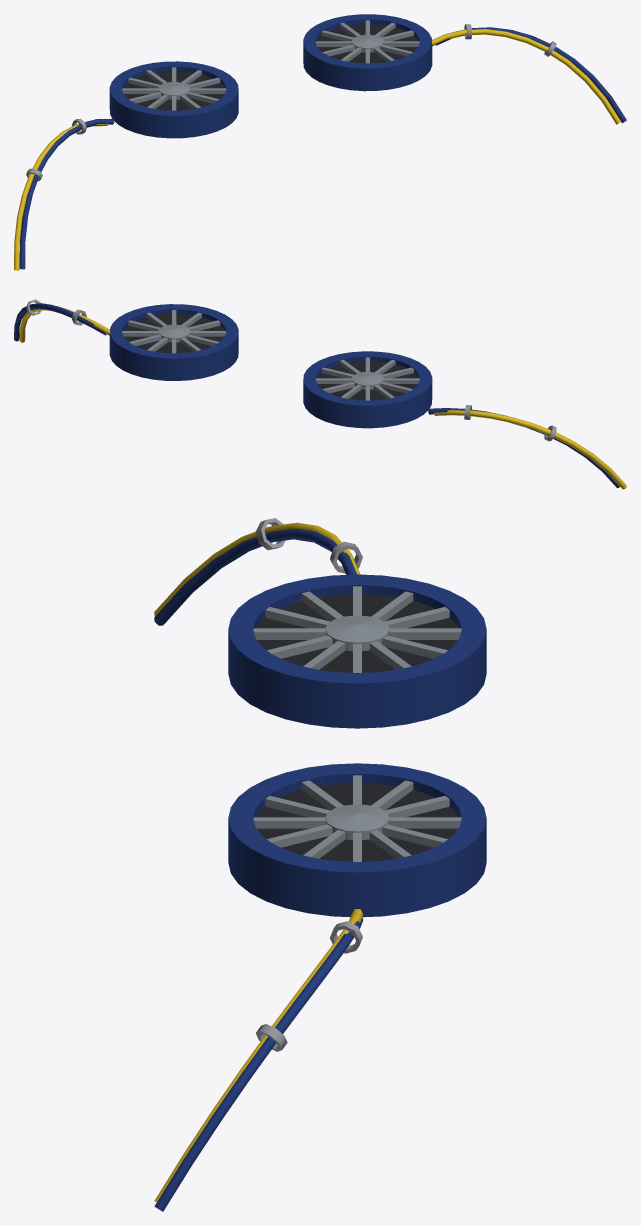
Rendered from l20_fan.obj.
3 views of the same model, one above another, from view 1: azimuth 30°, elevation 25°; view 2: azimuth 150°, elevation 25°; view 3: azimuth 270°, elevation 25° (orthographic). The views are drawn at different scales.
Parts seen in each view (by area): view 1: l20_fan; view 2: l20_fan; view 3: l20_fan.
Part boxes in pixels (<box>): l20_fan: <box>14,14,626,270</box>; l20_fan: <box>14,299,626,489</box>; l20_fan: <box>154,518,486,1211</box>.
Size of the model in its own units: 2.85 by 0.4373 by 0.669.
